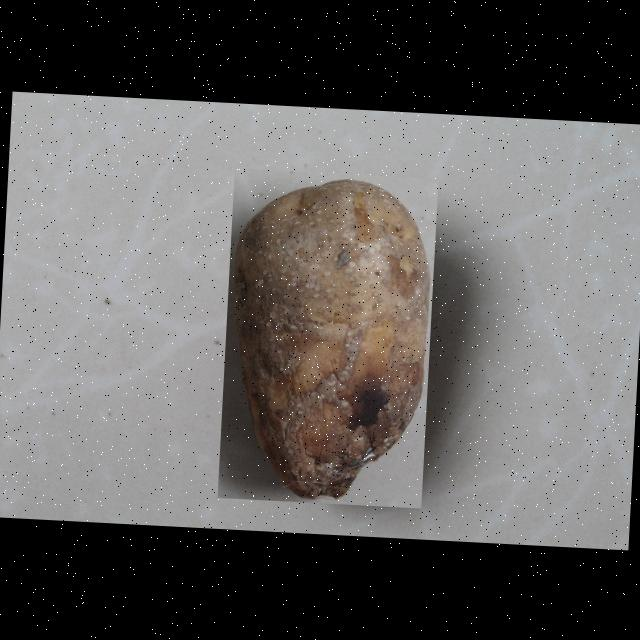Diseased-fungal potato: (217, 168, 438, 508)
